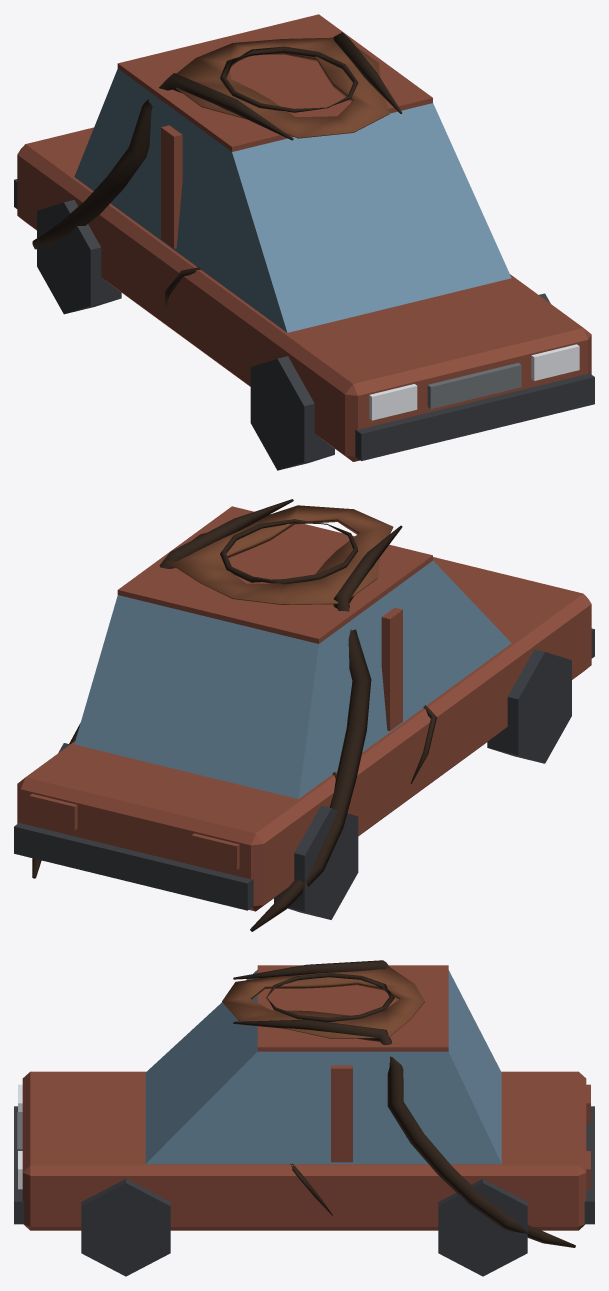
File: prop-car-hatchback-infested-2.glb
3 views of the same model, one above another, from view 1: azimuth 30°, elevation 25°; view 2: azimuth 150°, elevation 25°; view 3: azimuth 270°, elevation 25° (orthographic). The views are drawn at different scales.
Visible parts, largest first — view 1: greenhouse, painted-body, host_growth, painted-roof, bumper-1, tyre-0.57--1, tyre--0.57--1, grille, window-pillar--1, light-1-1, light-1--1; view 2: greenhouse, painted-body, host_growth, painted-roof, bumper--1, tyre-0.57--1, tyre--0.57--1, window-pillar--1, light--1-1, light--1--1; view 3: painted-body, greenhouse, host_growth, painted-roof, tyre-0.57-1, tyre--0.57-1, window-pillar-1, bumper--1, bumper-1.
Part boxes in pixels (box(x1,y1,x2,y2)): greenhouse: box(74, 68, 511, 332); painted-body: box(17, 127, 591, 461); host_growth: box(32, 32, 402, 310); painted-roof: box(117, 14, 432, 151); bumper-1: box(355, 373, 594, 460); tyre-0.57--1: box(250, 356, 334, 470); tyre--0.57--1: box(37, 200, 121, 314); grille: box(427, 362, 521, 408); window-pillar--1: box(161, 125, 182, 248); light-1-1: box(531, 344, 579, 380); light-1--1: box(369, 384, 417, 420); greenhouse: box(74, 560, 511, 798); painted-body: box(17, 557, 591, 911); host_growth: box(32, 499, 436, 931); painted-roof: box(117, 506, 432, 643); bumper--1: box(14, 822, 253, 910); tyre-0.57--1: box(487, 649, 571, 763); tyre--0.57--1: box(274, 805, 358, 919); window-pillar--1: box(381, 607, 402, 730); light--1-1: box(29, 793, 77, 830); light--1--1: box(191, 833, 239, 869); painted-body: box(22, 1071, 586, 1230); greenhouse: box(145, 970, 501, 1164); host_growth: box(222, 960, 575, 1247); painted-roof: box(257, 965, 448, 1051); tyre-0.57-1: box(81, 1179, 170, 1276); tyre--0.57-1: box(438, 1179, 527, 1276); window-pillar-1: box(331, 1065, 352, 1162); bumper--1: box(584, 1106, 594, 1224); bumper-1: box(14, 1106, 24, 1224).
Size of the model in its own units: 0.8638 by 0.8098 by 1.85.
